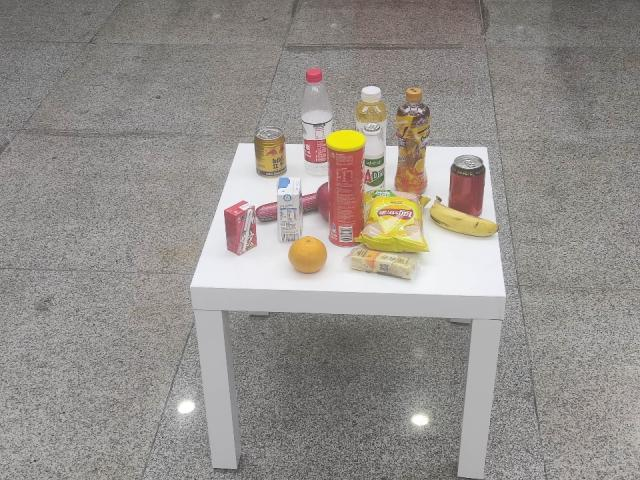Canned_drinks: (448, 156, 487, 216), (254, 127, 290, 174)
bottle: (294, 66, 336, 174)
cylinder: (324, 128, 368, 246), (354, 188, 433, 249)
drink_box: (219, 197, 260, 257), (273, 174, 307, 244)
